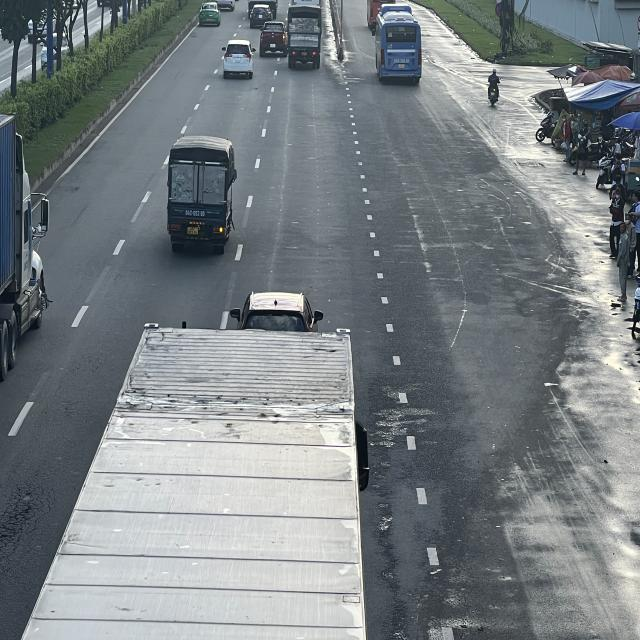car: (223, 38, 257, 77), (260, 20, 289, 56), (200, 2, 222, 26)
coach: (376, 7, 424, 85)
container: (0, 111, 52, 381)
truck: (167, 138, 238, 253), (285, 0, 322, 66)
